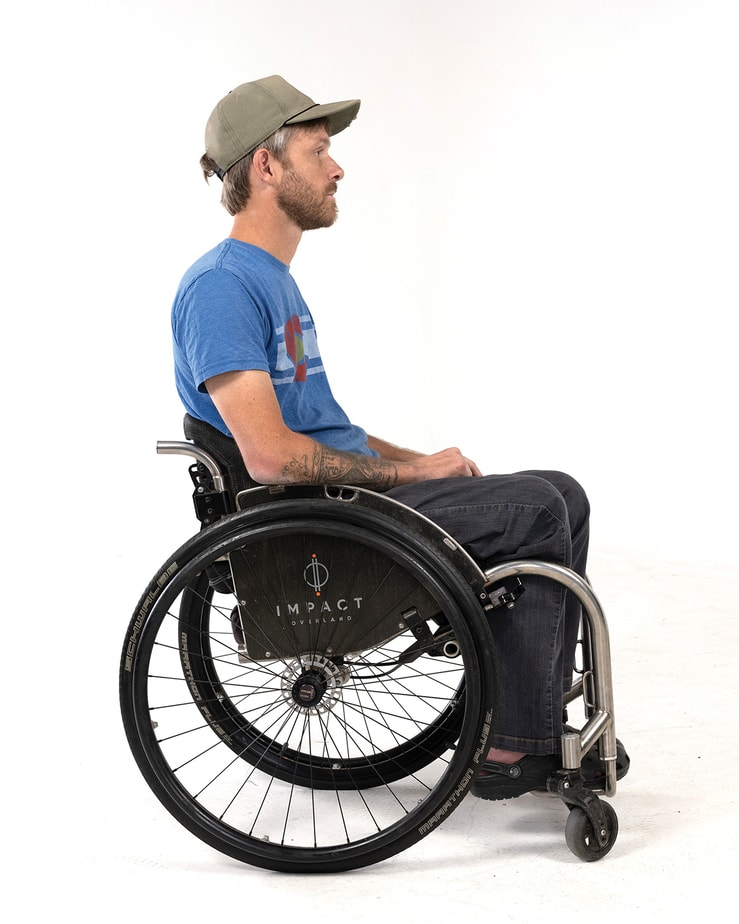wheelchair: (116, 74, 629, 874)
